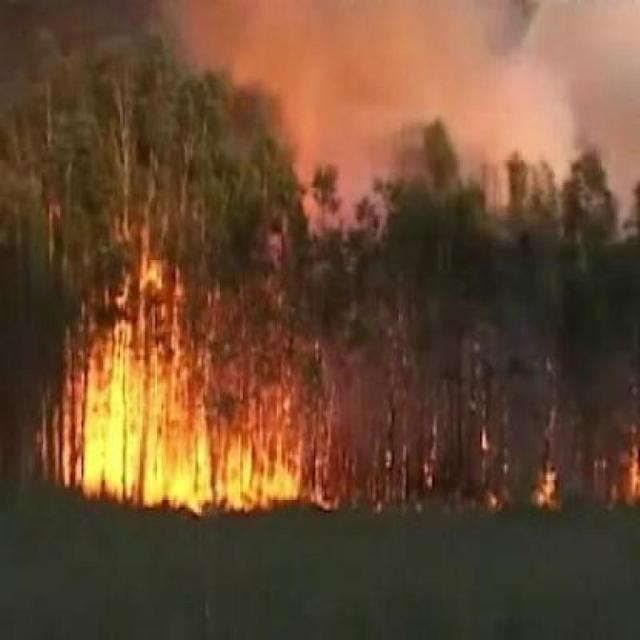Fire: (52, 283, 378, 500), (513, 453, 640, 504)
Smoke: (193, 2, 640, 172)
